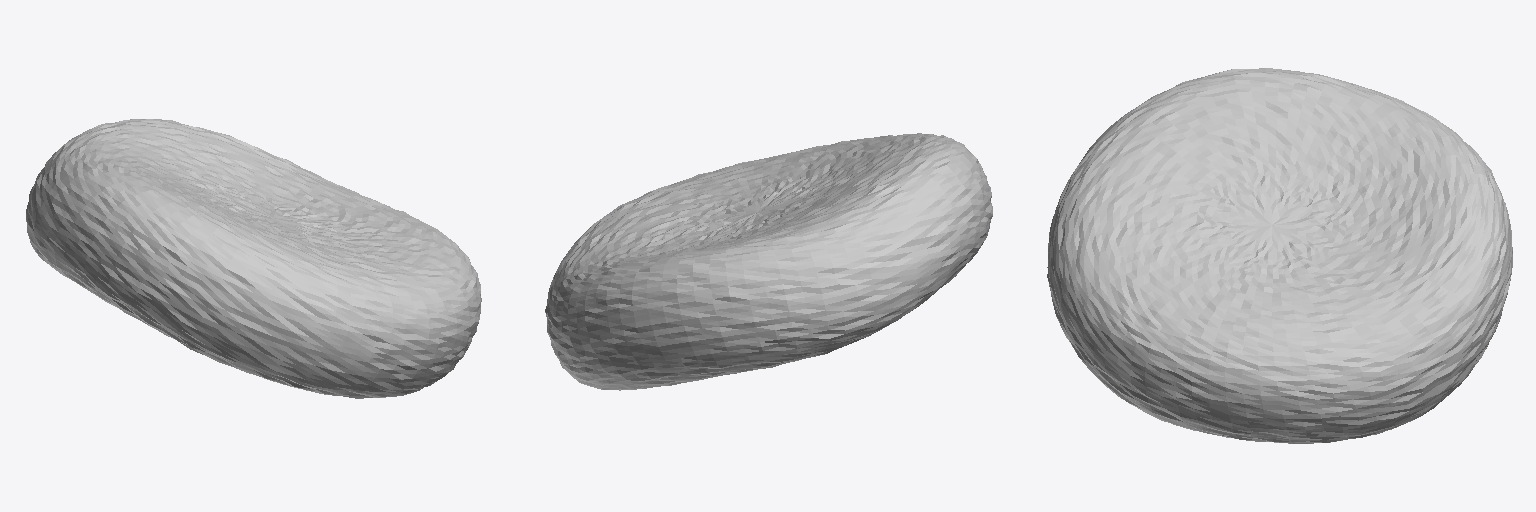
Rendered from antibody.obj.
3 views of the same model, side by side, from view 1: azimuth 30°, elevation 25°; view 2: azimuth 150°, elevation 25°; view 3: azimuth 270°, elevation 25° (orthographic).
Parts seen in each view (by area): view 1: Sphere.005; view 2: Sphere.005; view 3: Sphere.005.
Boxes of the visible parts, x1=… form: Sphere.005: x1=26, y1=119, x2=481, y2=398; Sphere.005: x1=545, y1=133, x2=992, y2=390; Sphere.005: x1=1047, y1=68, x2=1512, y2=443.
Size of the model in its own units: 1.79 by 1.02 by 1.87.